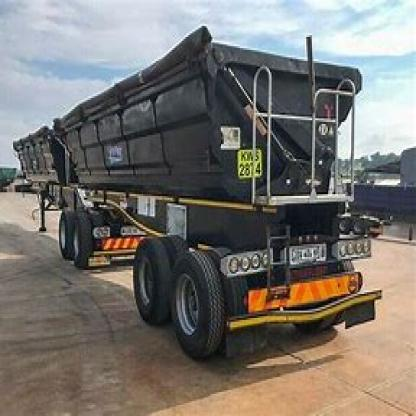dump_truck: (4, 22, 400, 374)
